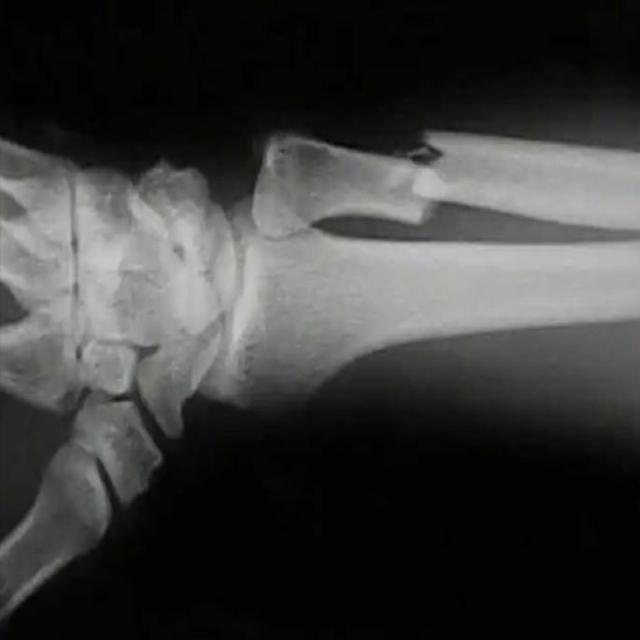bone: (386, 99, 464, 240), (198, 143, 282, 234)
